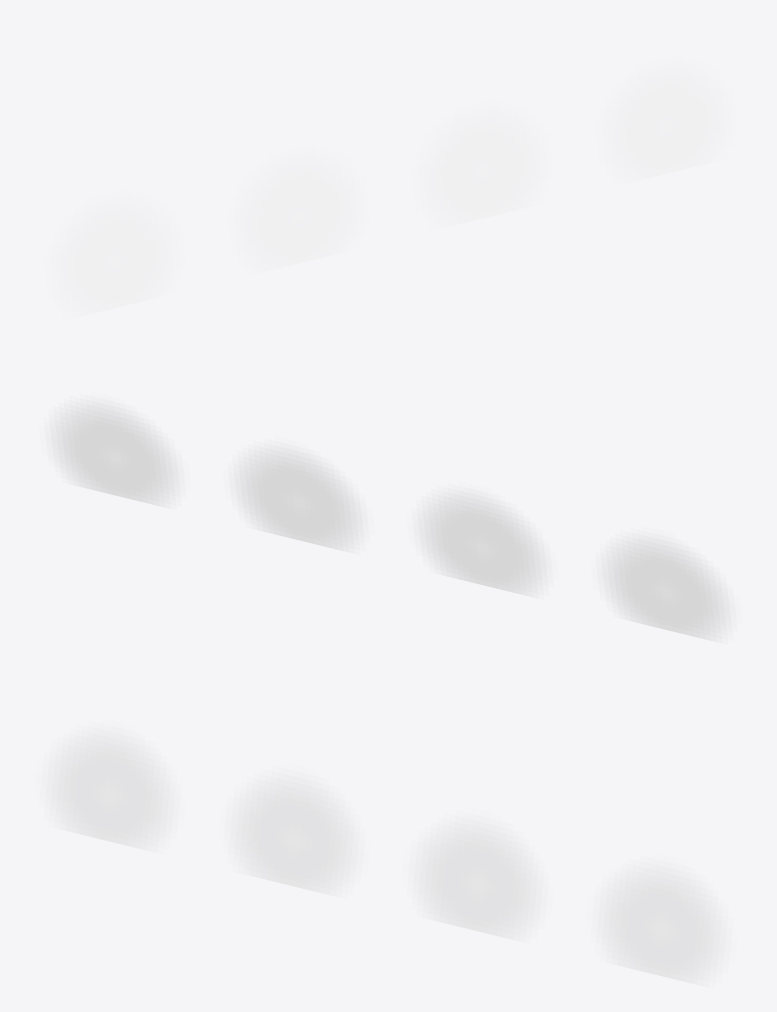
3 renders of one model, top to bottom at view 1: azimuth 30°, elevation 25°; view 2: azimuth 150°, elevation 25°; view 3: azimuth 330°, elevation 25°, orthographic.
Size of the model in its own units: 12 by 1.96 by 0.3887.
1 material, 1 textured.
